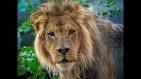lion: (28, 3, 122, 76)
